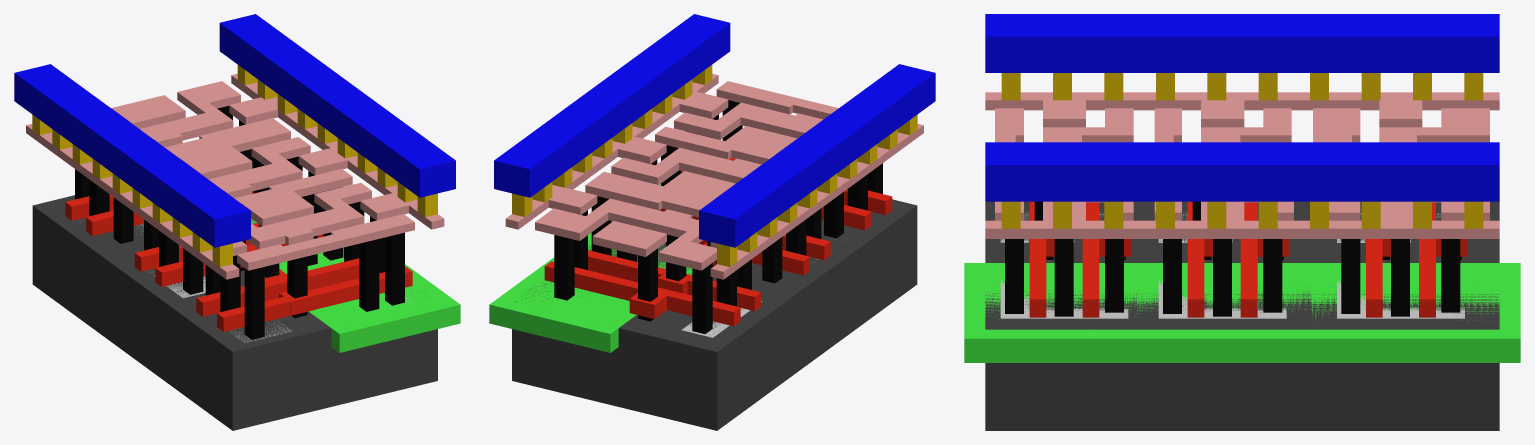
Rendered from sky130_fd_sc_hd__dlymetal6s2s_1.obj.
The picture shows the model from 3 angles, left to right: view 1: azimuth 30°, elevation 25°; view 2: azimuth 150°, elevation 25°; view 3: azimuth 270°, elevation 25°; orthographic projection. The views are drawn at different scales.
Parts seen in each view (by area): view 1: subs, li, metal1, licon, poly, nwell, mcon, diff; view 2: subs, li, metal1, licon, poly, nwell, mcon; view 3: metal1, subs, nwell, li, licon, mcon, poly, tap.
Boxes of the visible parts, left/top/right/bottom form: subs: left=32, top=195, right=437, bottom=430; li: left=26, top=73, right=444, bottom=279; metal1: left=14, top=14, right=455, bottom=247; licon: left=75, top=106, right=404, bottom=339; poly: left=65, top=191, right=412, bottom=331; nwell: left=251, top=218, right=460, bottom=352; mcon: left=32, top=65, right=437, bottom=266; diff: left=134, top=223, right=291, bottom=342; subs: left=512, top=199, right=917, bottom=430; li: left=505, top=73, right=923, bottom=279; metal1: left=494, top=14, right=935, bottom=247; licon: left=554, top=100, right=882, bottom=333; poly: left=544, top=158, right=892, bottom=326; nwell: left=489, top=184, right=692, bottom=352; mcon: left=512, top=65, right=917, bottom=266; metal1: left=985, top=14, right=1499, bottom=201; subs: left=985, top=201, right=1499, bottom=430; nwell: left=964, top=263, right=1520, bottom=362; li: left=985, top=92, right=1499, bottom=238; licon: left=1005, top=201, right=1461, bottom=316; mcon: left=1001, top=73, right=1483, bottom=228; poly: left=1029, top=201, right=1467, bottom=317; tap: left=1000, top=279, right=1464, bottom=318.
Bounding box in the file's own units: 3.2 × 2.74 × 4.98.
